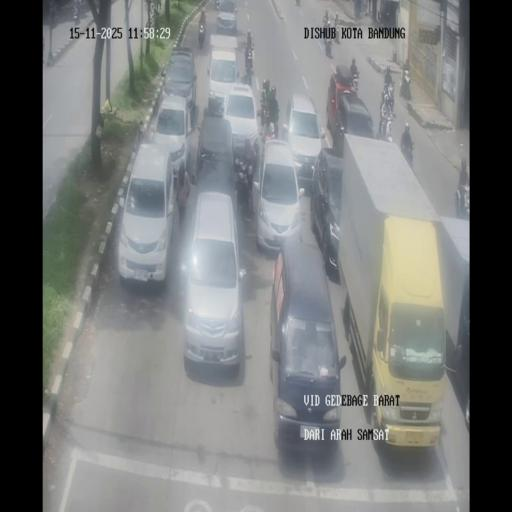car: (270, 240, 343, 453), (181, 191, 247, 369), (118, 142, 176, 285), (281, 92, 324, 187), (312, 148, 342, 279), (152, 95, 192, 182), (221, 83, 260, 169), (332, 88, 375, 154), (208, 50, 238, 108), (166, 46, 196, 98), (216, 0, 238, 35)
motorcycle: (234, 159, 252, 211), (454, 178, 470, 218), (260, 104, 276, 141), (399, 63, 412, 99), (380, 111, 394, 141), (401, 140, 414, 169), (244, 41, 255, 73), (252, 135, 260, 177), (387, 87, 396, 116), (198, 20, 206, 48), (262, 78, 270, 104), (48, 0, 56, 25), (351, 72, 359, 93), (384, 65, 392, 86), (325, 38, 332, 58), (335, 21, 341, 44), (361, 0, 369, 17), (322, 10, 330, 26), (73, 4, 79, 22), (376, 8, 382, 23), (42, 32, 45, 60), (215, 0, 221, 10), (296, 0, 300, 7)
truck: (336, 137, 460, 448), (209, 33, 238, 54), (379, 0, 401, 27)
